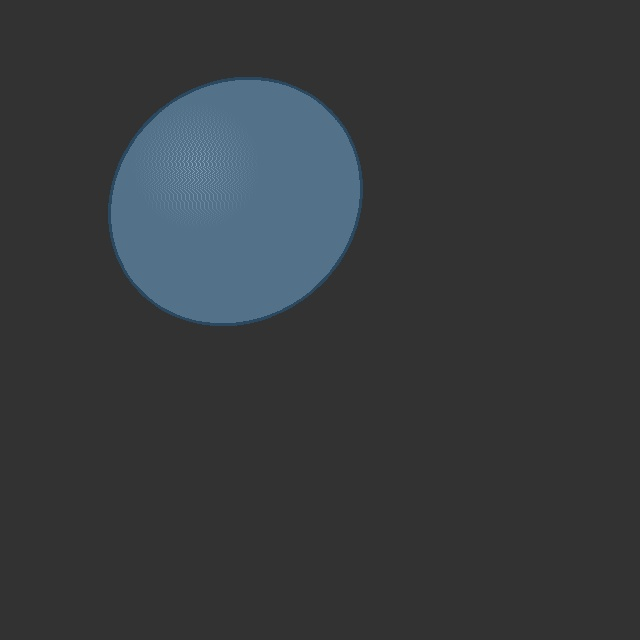lens: (110, 78, 360, 324)
